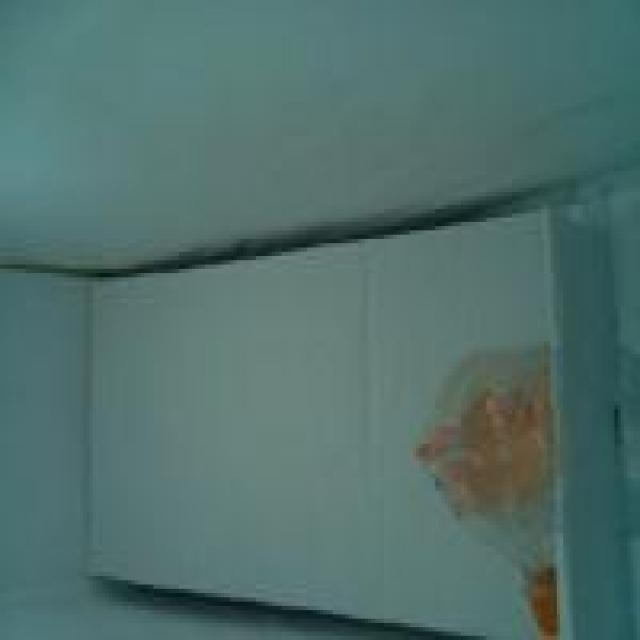bottle: (393, 326, 593, 640)
